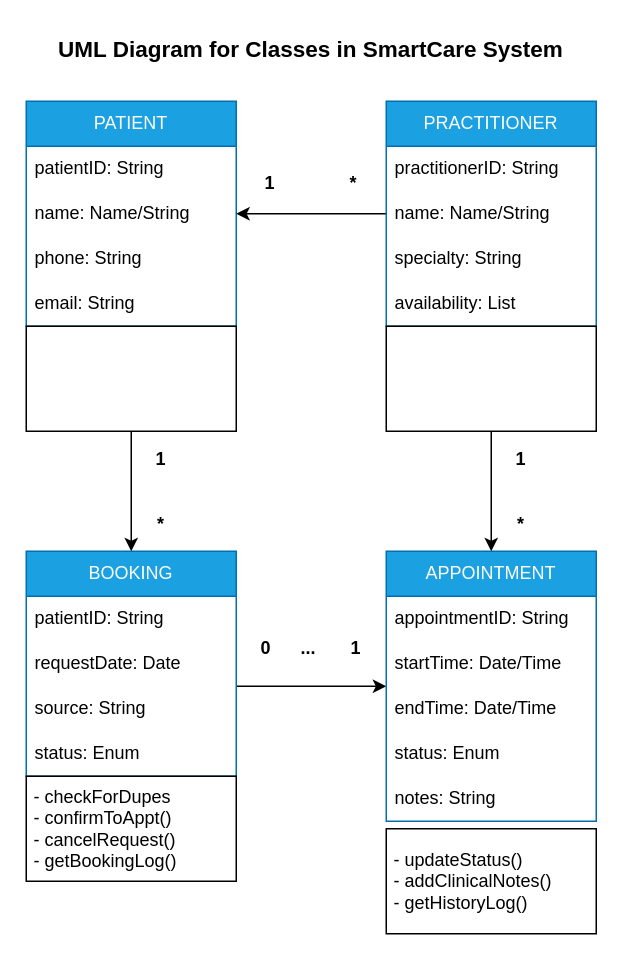
Some shapes in this 623 by 960 pixel diagram are drawn without their labels. Here are the shapes that lost their labels. From the top down, the centre of each, then its label:
At point (130, 378): "- getHistory() - updateContact() - getUniqueID()".
At point (490, 378): "- checkAvailability() - addAvailability() - removeAvailability()".
